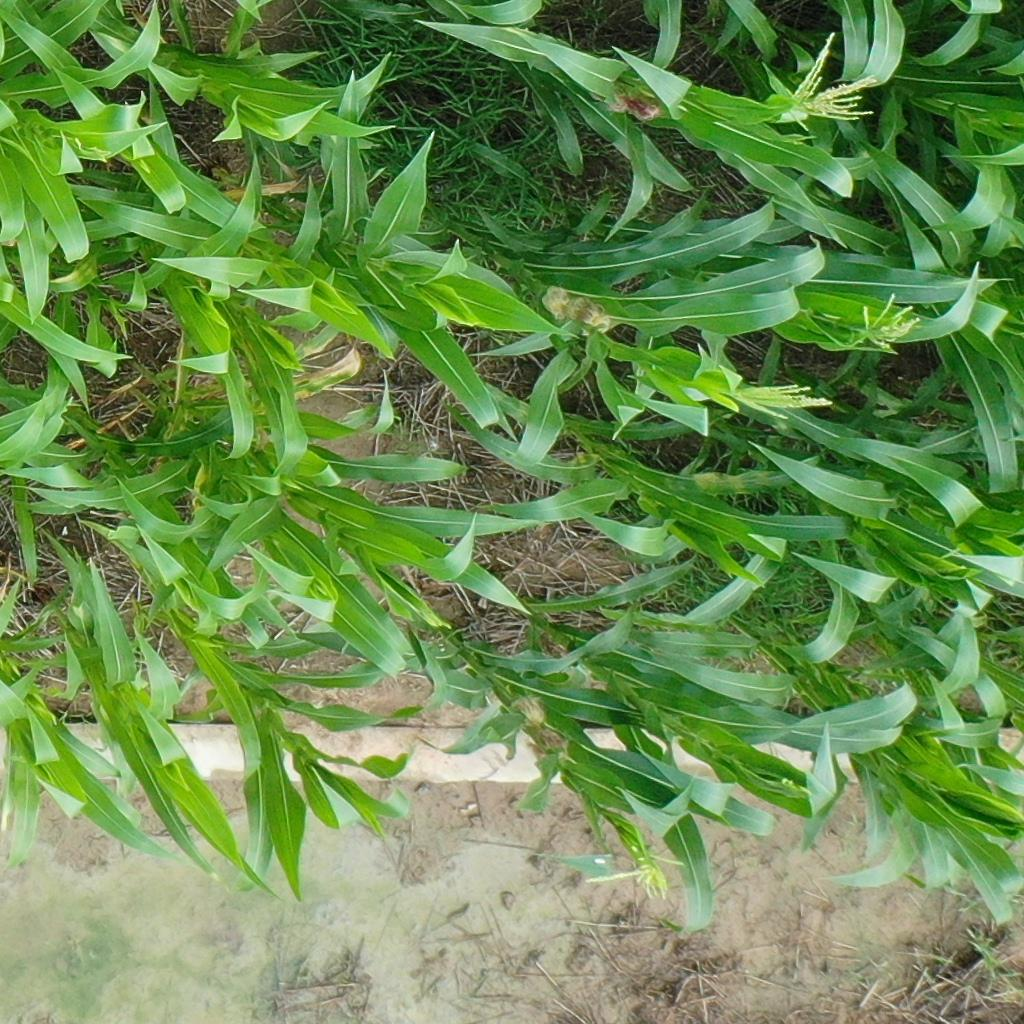Tassel: (770, 27, 882, 137), (731, 376, 836, 430), (589, 851, 686, 904), (852, 288, 926, 355)
